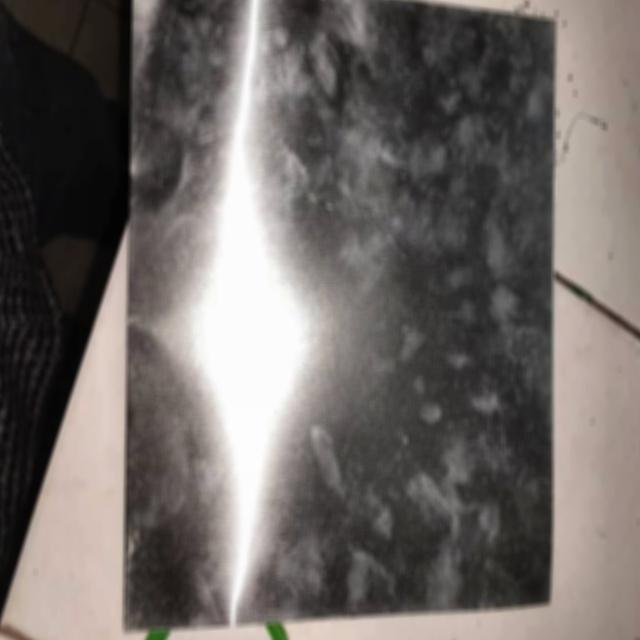TLC Plate: (122, 5, 562, 604)
